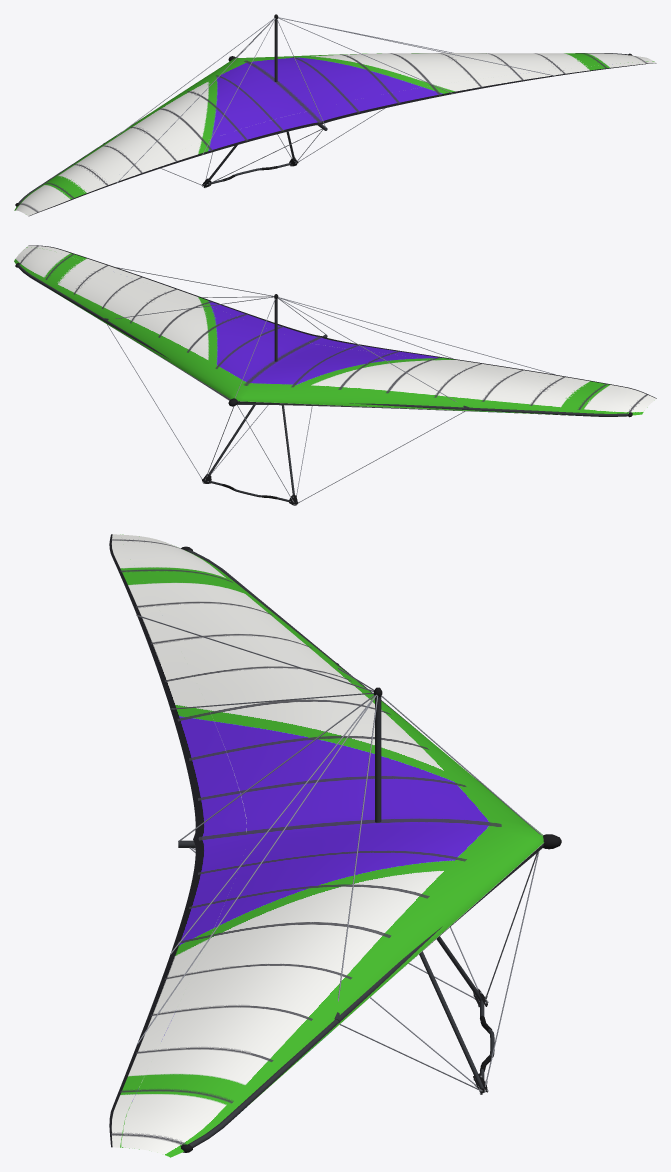
File: glider_icaro_alto.glb
3 renders of one model, top to bottom at view 1: azimuth 30°, elevation 25°; view 2: azimuth 150°, elevation 25°; view 3: azimuth 270°, elevation 25°, orthographic. The views are drawn at different scales.
Visible parts, largest first — view 1: Sail, Frame, ControlFrame; view 2: Sail, Frame, ControlFrame; view 3: Sail, Frame, ControlFrame.
Boxes of the visible parts, x1,y1,x2,y2 form: Sail: (14, 53, 656, 216); Frame: (15, 14, 632, 206); ControlFrame: (160, 108, 384, 187); Sail: (14, 245, 656, 415); Frame: (15, 263, 632, 417); ControlFrame: (107, 324, 464, 505); Sail: (109, 534, 543, 1157); Frame: (136, 546, 561, 1152); ControlFrame: (189, 847, 539, 1094).
Bounding box in the file's own units: 9.98 × 2.76 × 3.11.
8 materials, 1 textured.
